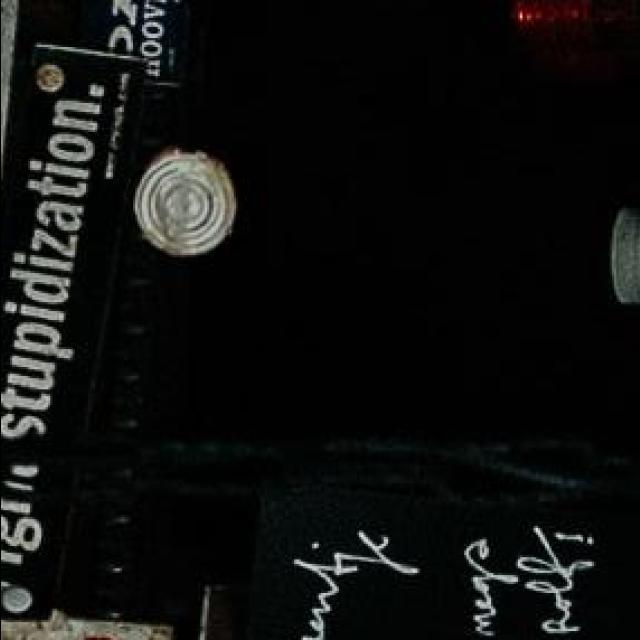logam: (131, 153, 232, 258)
